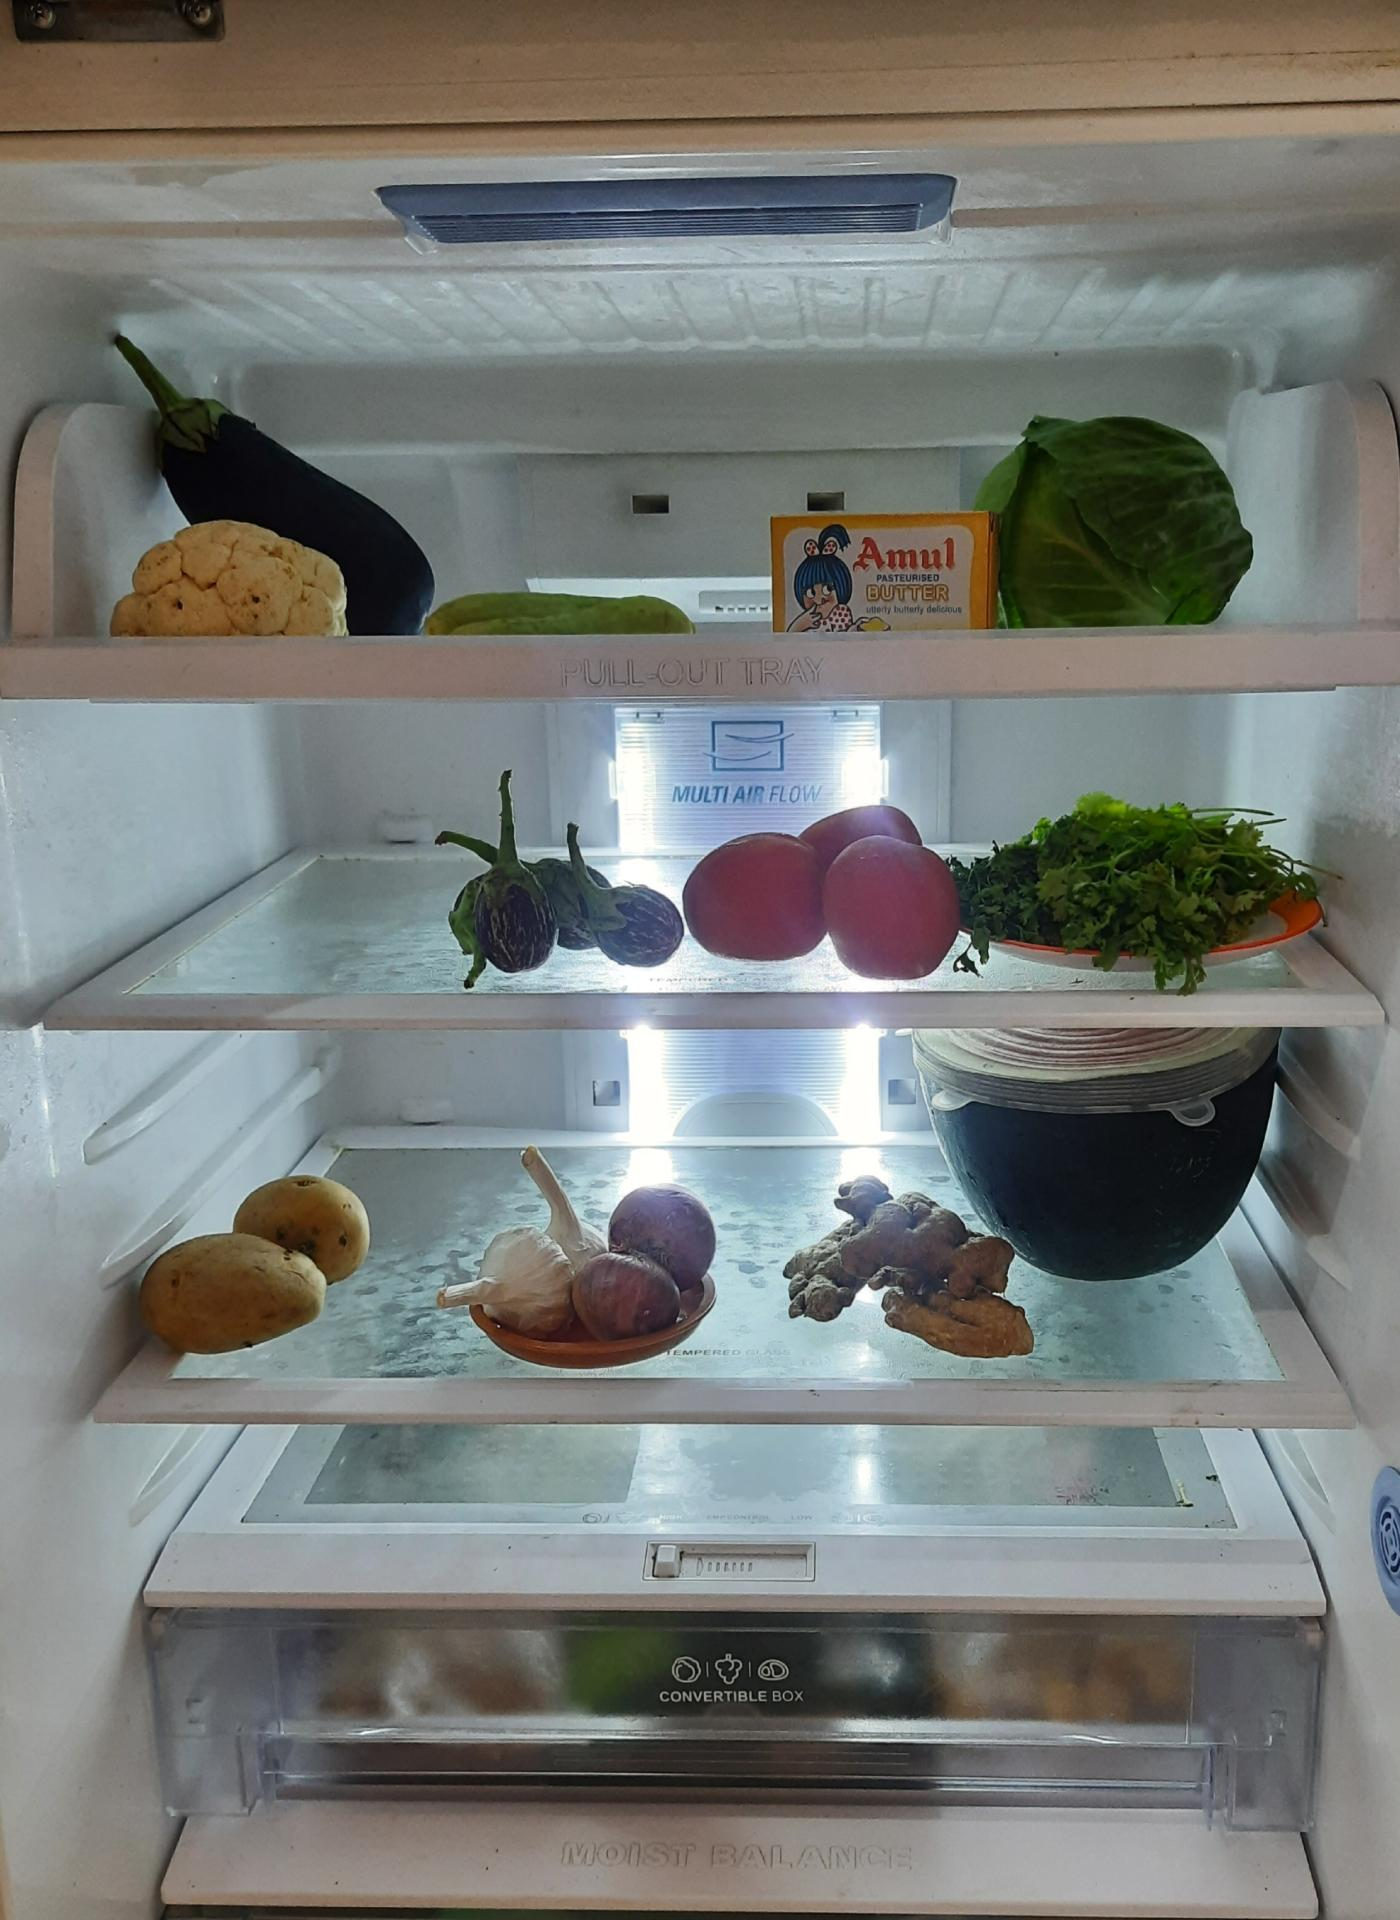brinjal: (143, 328, 447, 638), (449, 805, 693, 979)
butter: (765, 493, 999, 631)
cabbage: (986, 401, 1257, 629)
cauliflower: (95, 504, 364, 647)
coriander: (960, 792, 1322, 957)
cucumber: (432, 565, 707, 650)
garlic: (443, 1227, 571, 1334)
ginger: (786, 1169, 1042, 1371)
onion: (571, 1172, 717, 1337)
potato: (136, 1173, 379, 1362)
tomato: (680, 796, 956, 969)
watermelon: (912, 1033, 1294, 1291)
